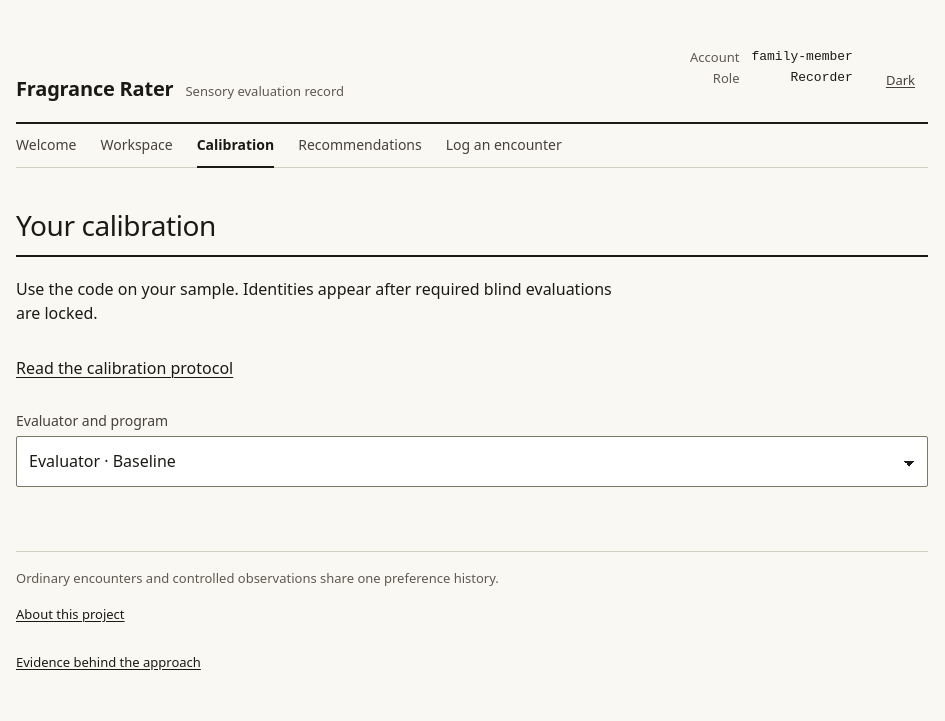
Test: Calibration participant workflow › uses server eligibility when an unlocked concealed holdout remains
Select "Evaluator · Baseline" in the dropdown labelled "Evaluator and program" at (472, 461), box [16, 436, 928, 487]
(page scrolled)
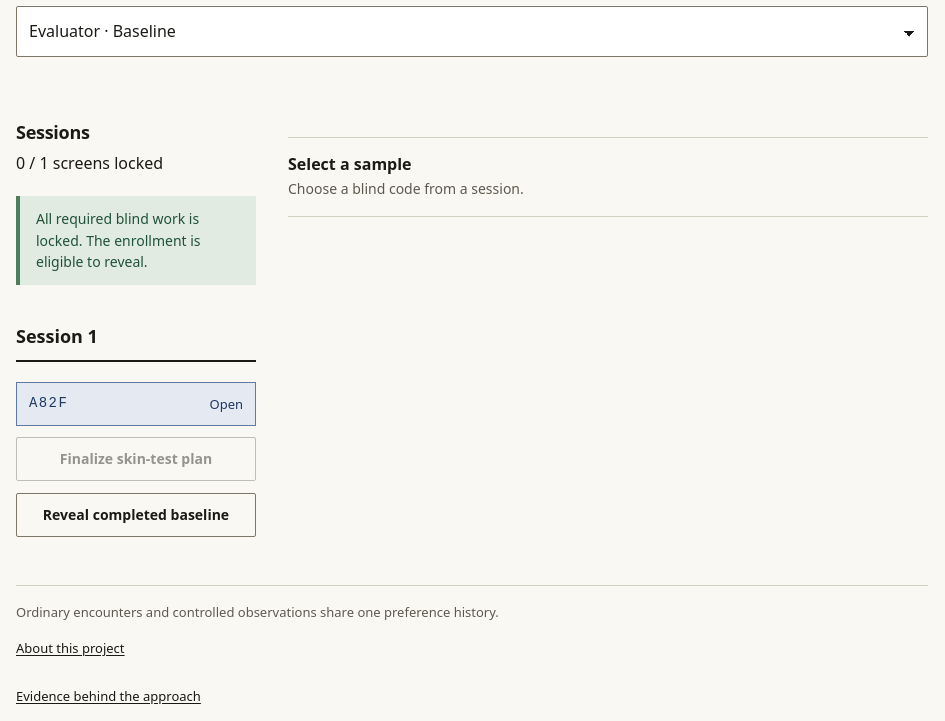
Expected: the text "All required blind work is locked. The enrollment is eligible to reveal." is shown, [16, 196, 256, 285]
Expected: the button "Reveal completed baseline" is enabled, [16, 493, 256, 537]
